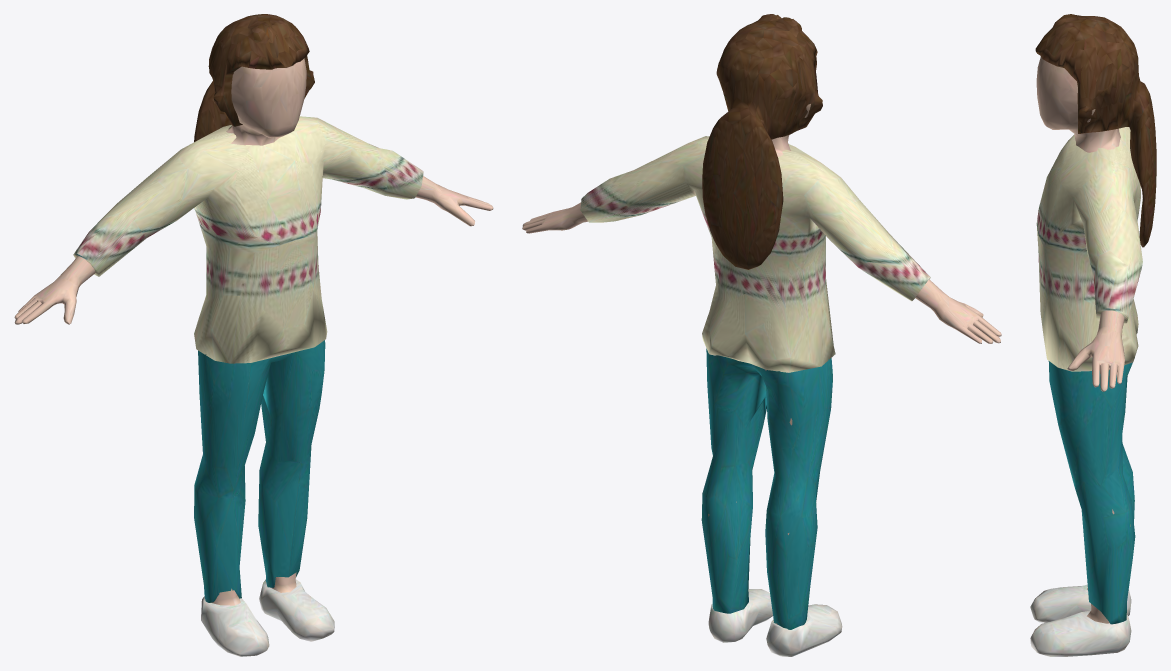
File: npc_x_girl3.glb
3 views of the same model, side by side, from view 1: azimuth 30°, elevation 25°; view 2: azimuth 150°, elevation 25°; view 3: azimuth 270°, elevation 25° (orthographic).
Visible parts, largest first — view 1: Human; view 2: Human; view 3: Human.
Part boxes in pixels (box(x1,y1,x2,y2)): Human: box(14, 14, 493, 656); Human: box(522, 14, 1001, 656); Human: box(1030, 14, 1156, 656).
Bounding box in the file's own units: 1.12 × 1.38 × 0.2569.
Materials: 1 (1 with a texture image).
